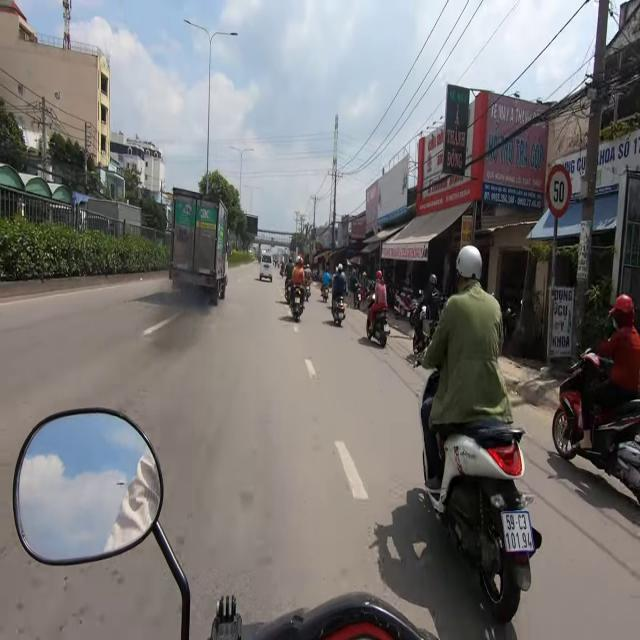bien_trang: (502, 506, 535, 557)
